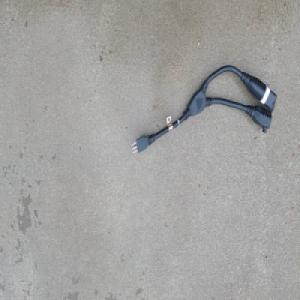Wire: (130, 63, 277, 155)
